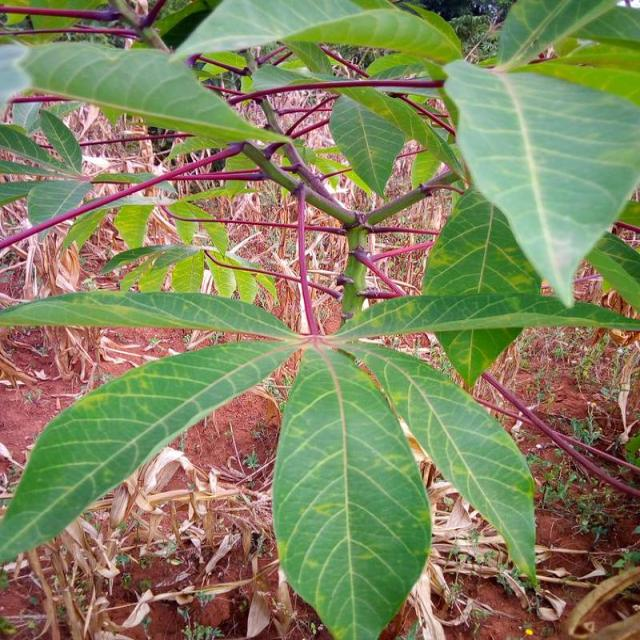cassava leaf: (0, 1, 638, 637), (0, 336, 302, 564), (440, 56, 638, 310), (271, 341, 432, 638), (15, 39, 293, 152)
